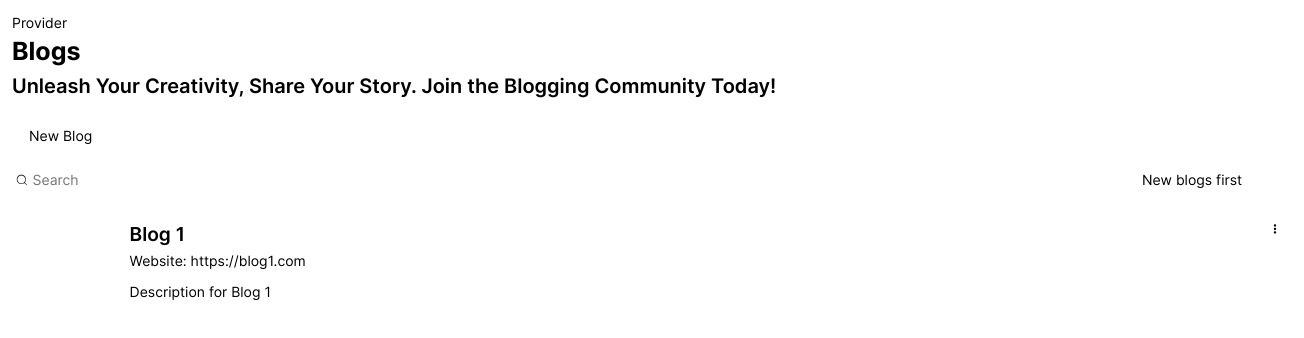
Test case: Blogs page › should navigate to blog details page
Click the link "Blog 1". click: (157, 234)
box: [130,222,185,246]
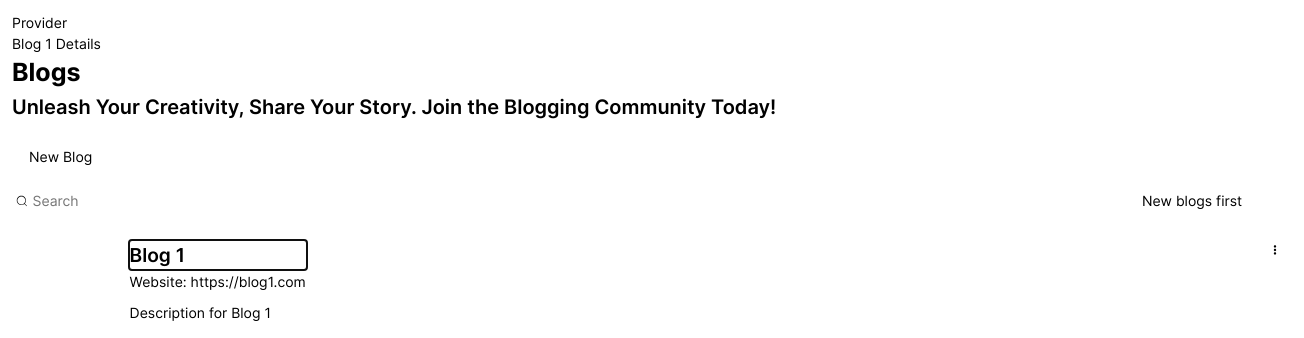
expect the text "Blog 1 Details" is shown: met, box [12,35,101,52]
